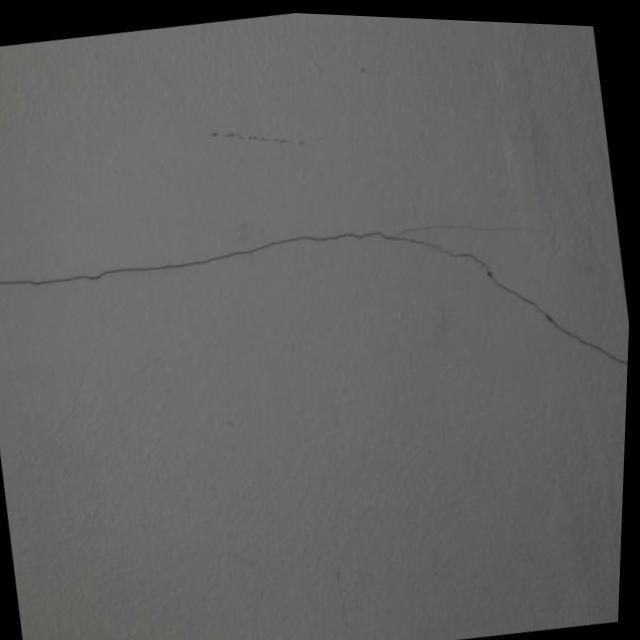Crack: (0, 164, 635, 504)
